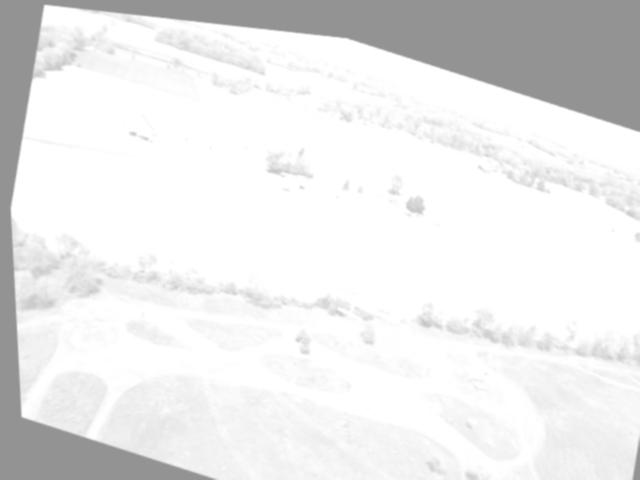hedef: (296, 258, 407, 334)
